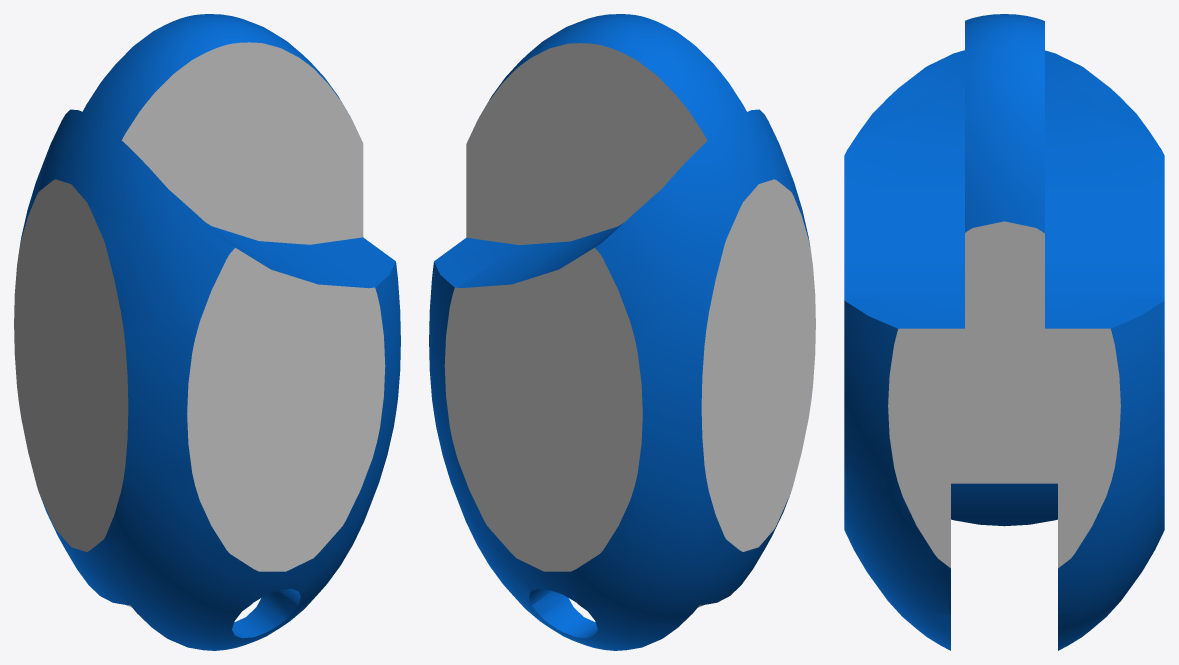
Rendered from round-finger-5.glb.
3 renders of one model, left to right at view 1: azimuth 30°, elevation 25°; view 2: azimuth 150°, elevation 25°; view 3: azimuth 270°, elevation 25°, orthographic.
Visible parts, largest first — view 1: EndPhalange; view 2: EndPhalange; view 3: EndPhalange.
Part boxes in pixels (left/top/right/bottom): EndPhalange: left=14, top=14, right=400, bottom=650; EndPhalange: left=429, top=14, right=815, bottom=650; EndPhalange: left=844, top=14, right=1164, bottom=650.
Bounding box in the file's own units: 0.3 × 0.6358 × 0.3.
